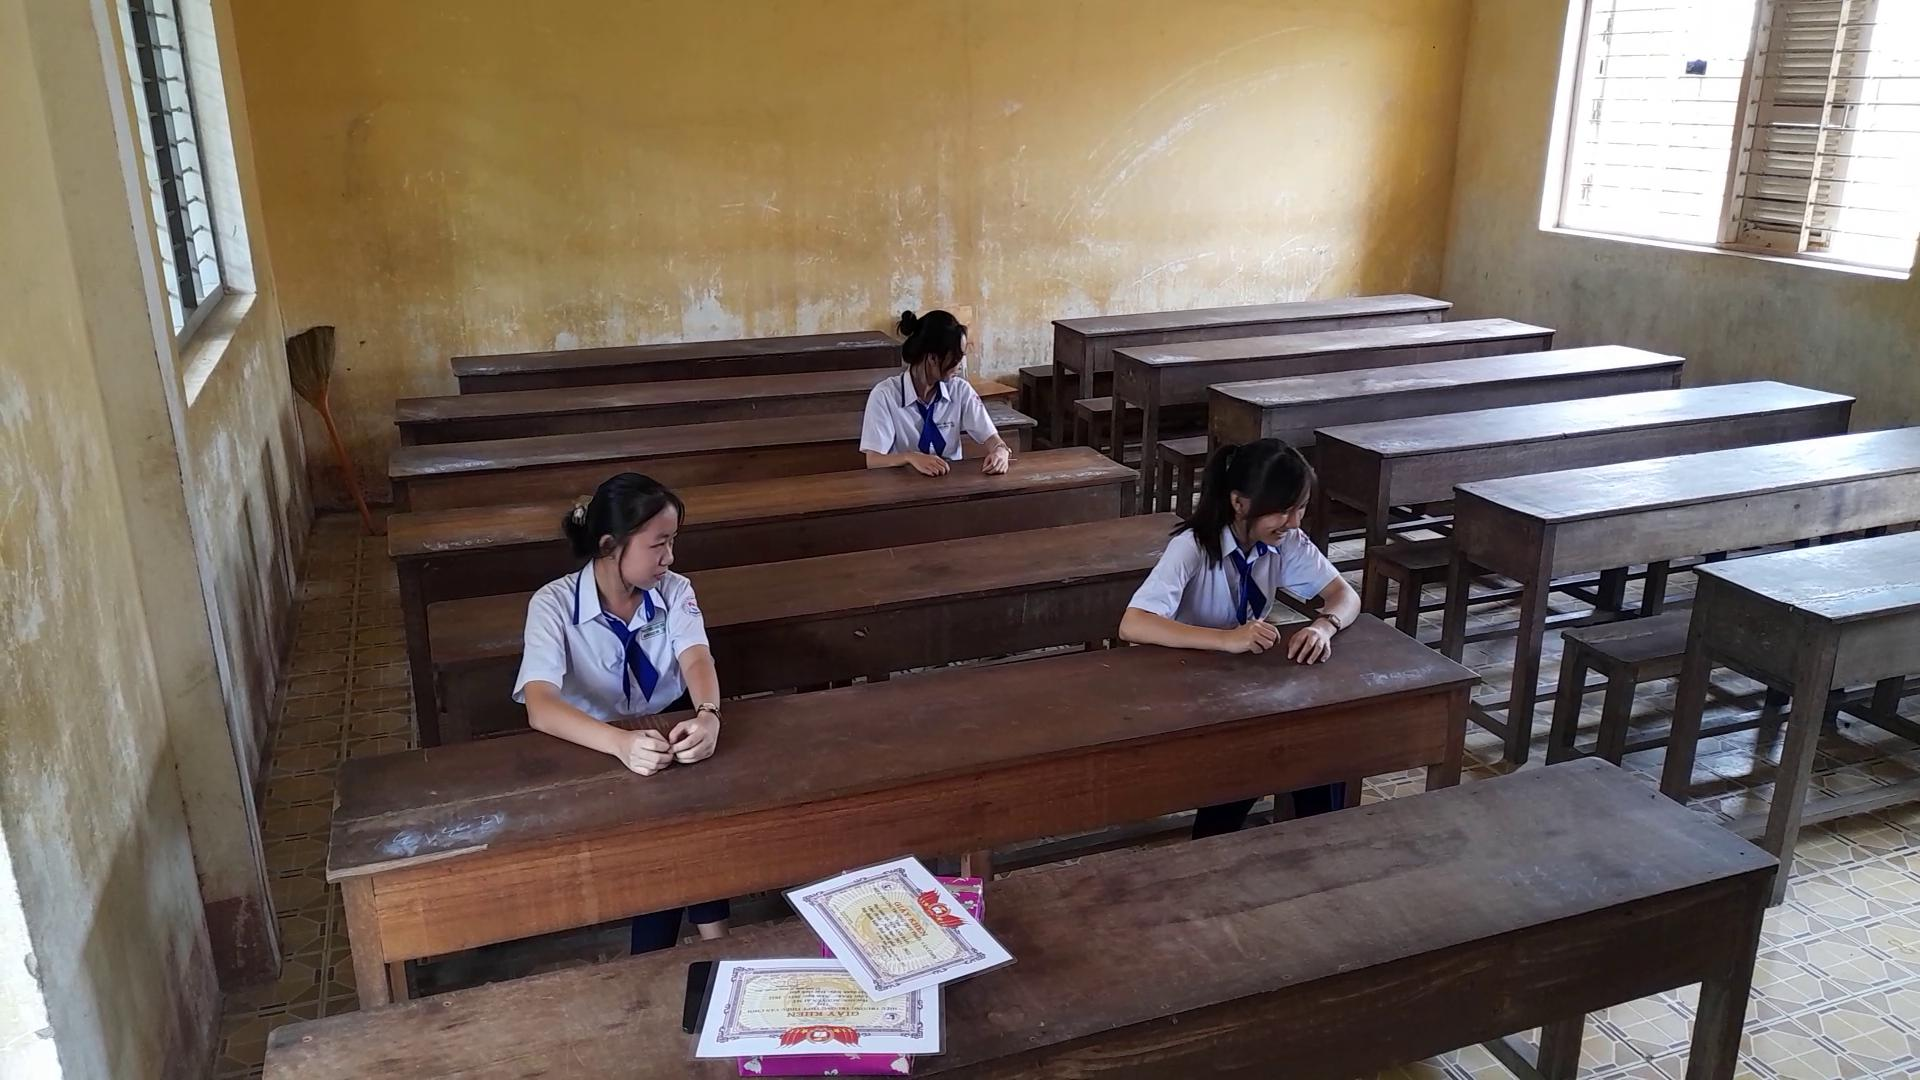Look Around: (551, 463, 708, 609), (1170, 419, 1328, 564), (884, 293, 978, 401)
